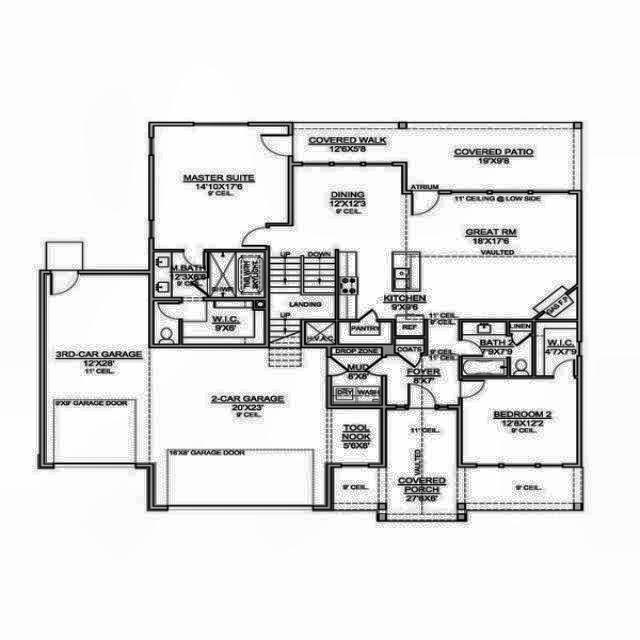room: (45, 274, 380, 505), (271, 166, 576, 319), (294, 128, 574, 190), (154, 126, 287, 250), (463, 379, 577, 463), (387, 410, 456, 519), (270, 254, 335, 345), (387, 323, 457, 404), (466, 468, 572, 502), (183, 301, 263, 343), (332, 348, 381, 404), (210, 252, 264, 297), (154, 253, 207, 296), (463, 323, 505, 376), (537, 323, 576, 374), (335, 469, 377, 503), (339, 322, 391, 344), (511, 323, 532, 375), (153, 303, 179, 344), (306, 322, 335, 344), (396, 339, 423, 352), (397, 323, 423, 335)
